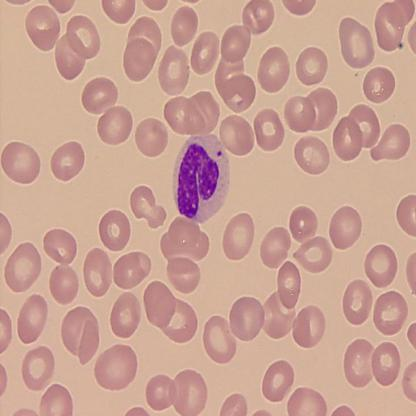Band Neutrophil: (170, 131, 232, 225)
